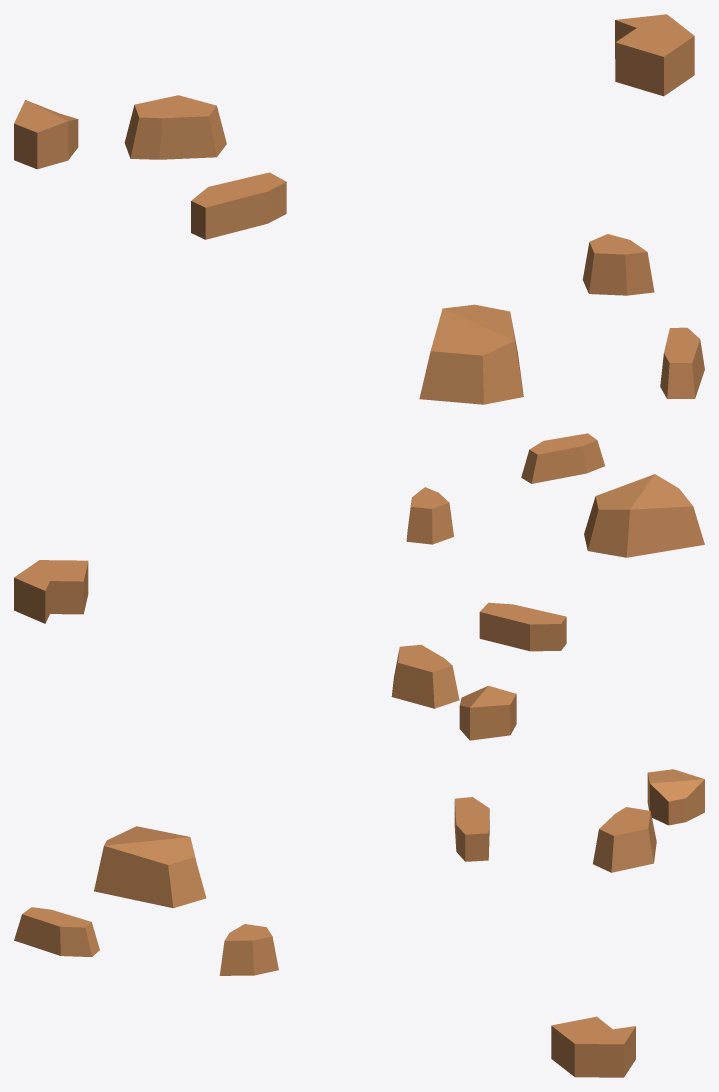
Rendered from SandRocks18_LOD1.fbx.
3 renders of one model, top to bottom at view 1: azimuth 30°, elevation 25°; view 2: azimuth 150°, elevation 25°; view 3: azimuth 270°, elevation 25°, orthographic. The views are drawn at different scales.
Parts seen in each view (by area): view 1: Plane.177; view 2: Plane.177; view 3: Plane.177.
Boxes of the visible parts, x1,y1,x2,y2 form: Plane.177: (14, 14, 704, 404); Plane.177: (14, 433, 704, 740); Plane.177: (14, 769, 704, 1077).
Size of the model in its own units: 89.82 by 9.07 by 102.
